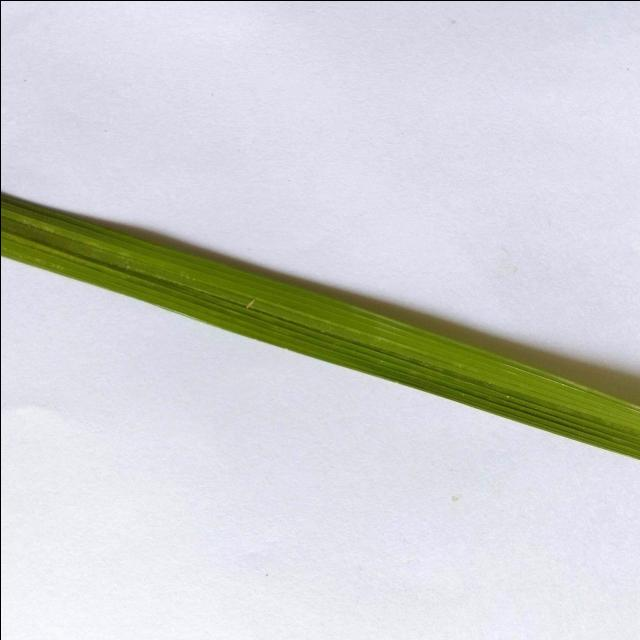healthy: (0, 156, 640, 509)
